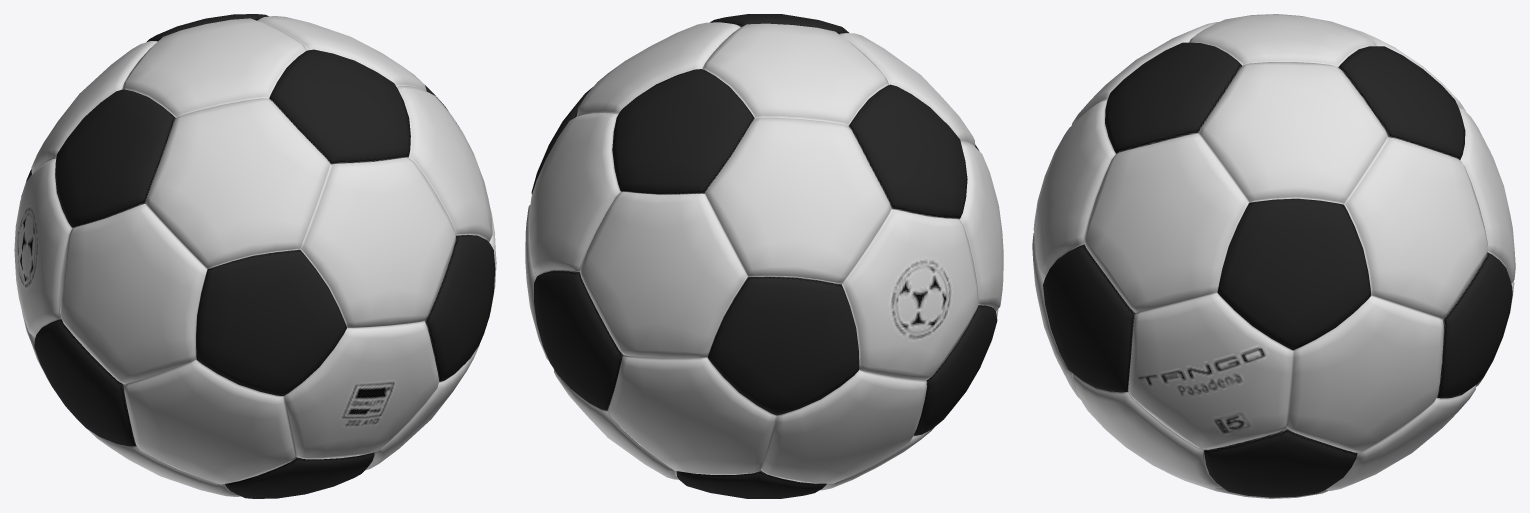
File: 012-qiu09.FBX
The picture shows the model from 3 angles, left to right: view 1: azimuth 30°, elevation 25°; view 2: azimuth 150°, elevation 25°; view 3: azimuth 270°, elevation 25°; orthographic projection.
Parts seen in each view (by area): view 1: 012-qiu09; view 2: 012-qiu09; view 3: 012-qiu09.
Part boxes in pixels (x1,y1,x2,y2): 012-qiu09: [14, 14, 496, 498]; 012-qiu09: [525, 14, 1003, 498]; 012-qiu09: [1032, 14, 1515, 498].
Bounding box in the file's own units: 18.82 × 18.7 × 18.76.
